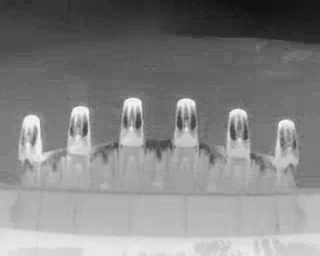claw: (226, 108, 253, 162), (120, 96, 145, 150), (174, 97, 199, 151), (18, 113, 44, 163), (276, 118, 301, 170), (67, 104, 91, 156)
